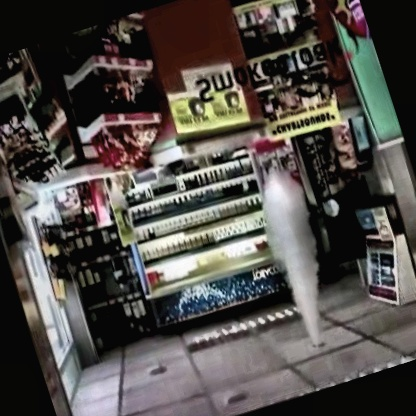smoke: (251, 159, 364, 350)
